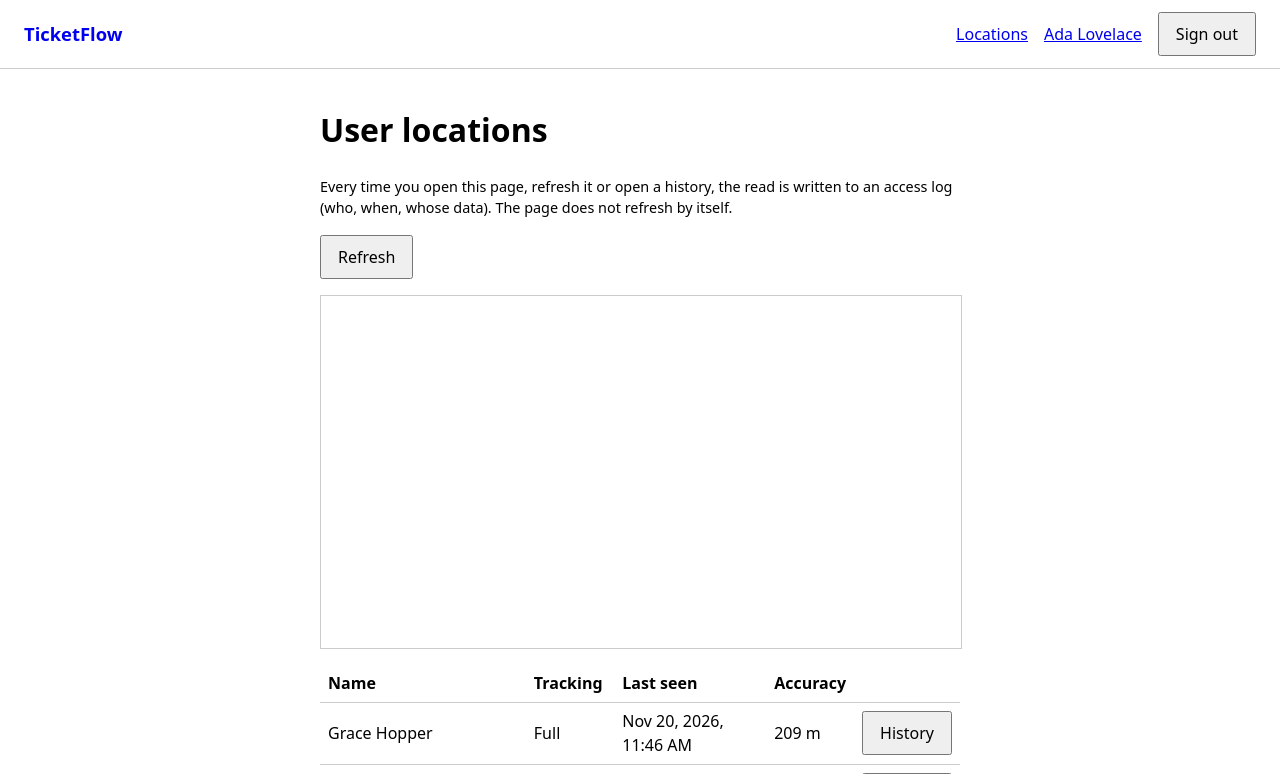
Scenario: one user's history › opens the history, draws the trail oldest to newest, and goes back
Step 1. Click the button with aria-label "History of Grace Hopper" → [907, 733], box x1=862 y1=711 x2=952 y2=755
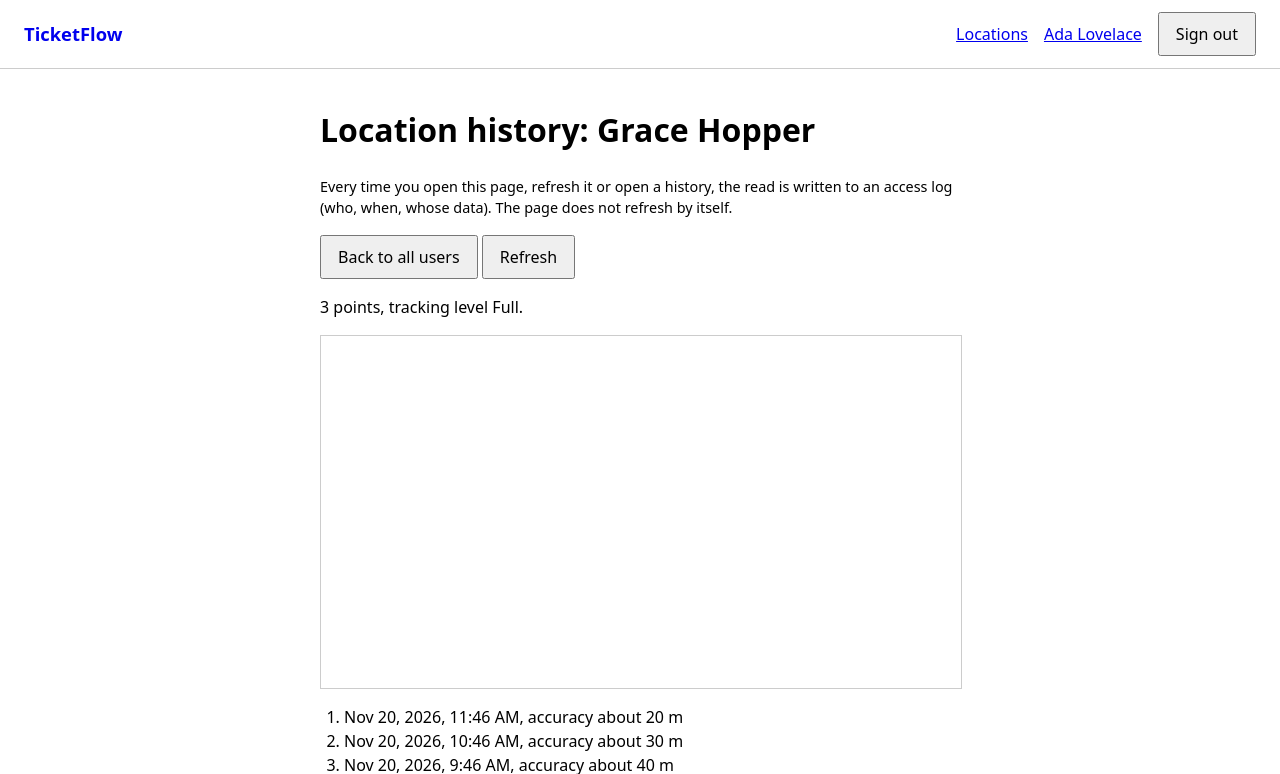
expect the heading "Location history: Grace Hopper" is shown: met, box x1=320 y1=108 x2=815 y2=151
expect the text "3 points, tracking level Full." is shown: met, box x1=320 y1=296 x2=523 y2=318
Step 2. Click the button "Back to all users" → [399, 257], box x1=320 y1=235 x2=478 y2=279
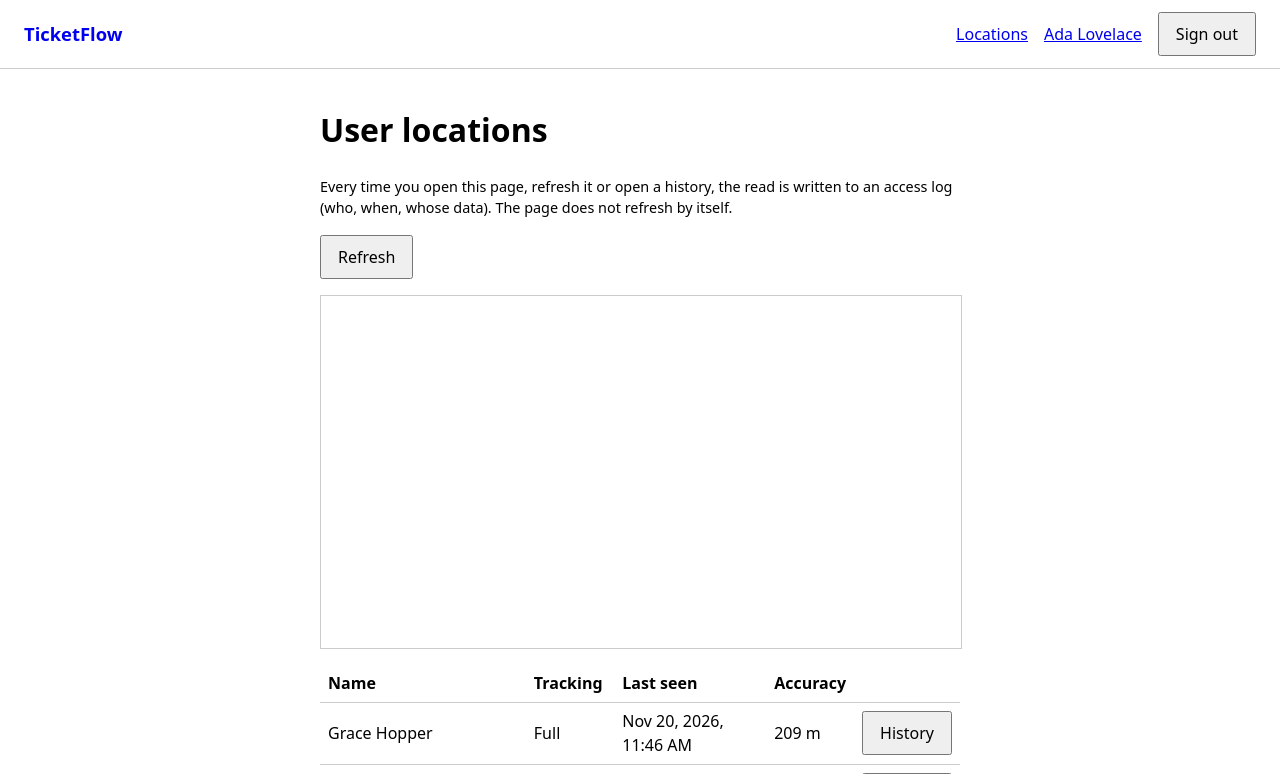
expect the heading "User locations" is shown: met, box x1=320 y1=108 x2=548 y2=151
